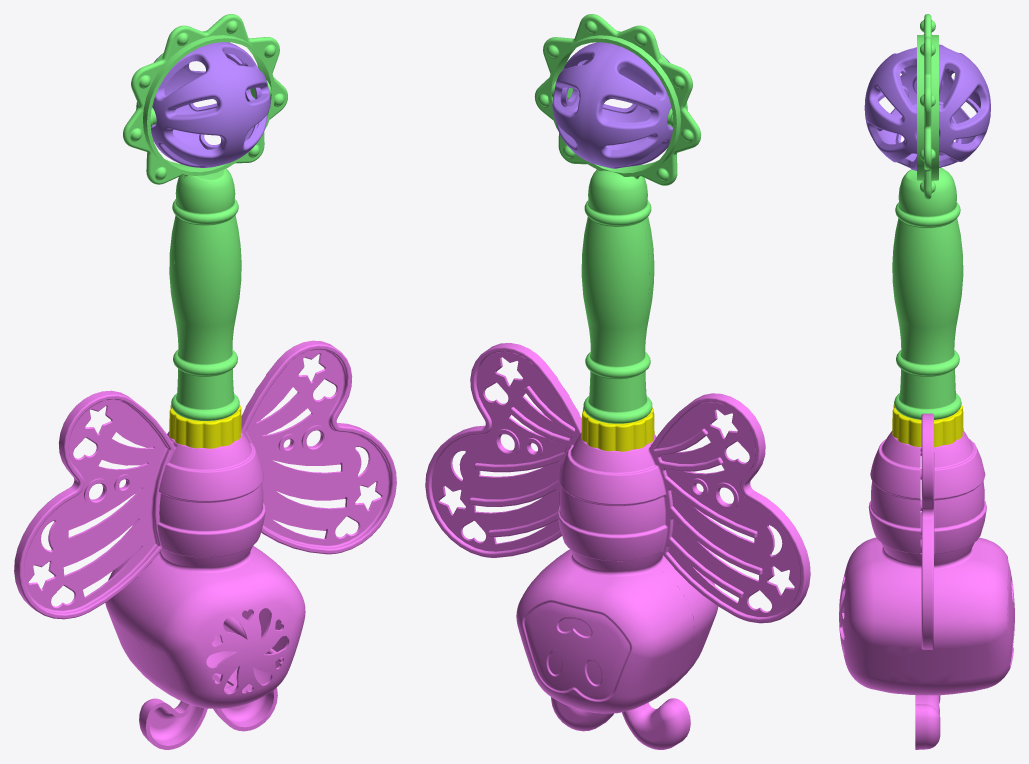
File: Toy.gltf
3 renders of one model, left to right at view 1: azimuth 30°, elevation 25°; view 2: azimuth 150°, elevation 25°; view 3: azimuth 270°, elevation 25°, orthographic. The views are drawn at different scales.
Parts seen in each view (by area): view 1: Unnamed; view 2: Unnamed; view 3: Unnamed.
Part boxes in pixels (bbox=[...]): Unnamed: bbox=[14, 14, 396, 749]; Unnamed: bbox=[425, 14, 810, 749]; Unnamed: bbox=[839, 14, 1014, 749].
Bounding box in the file's own units: 0.1205 × 0.2178 × 0.0494.
